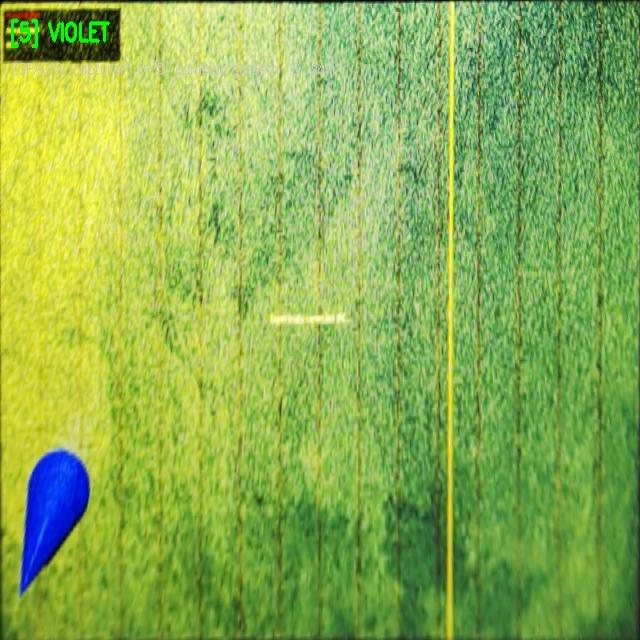violet: (19, 449, 89, 595)
